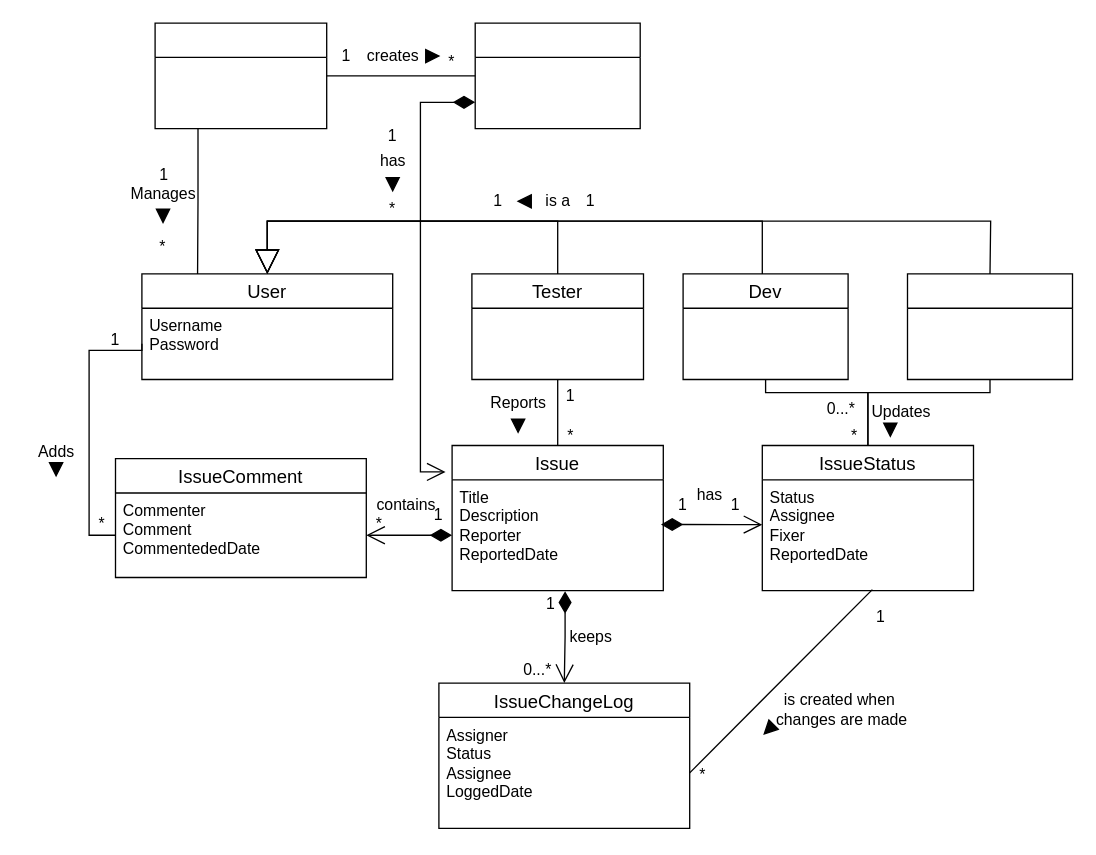
Image size: 1096x855. Some labels were removed from this diagram. Here are the shapes that lost their labels. From the top down, the centre of each, then its label:
At (x=240, y=75): "Admin".
At (x=557, y=75): "Project".
At (x=989, y=326): "PL".
